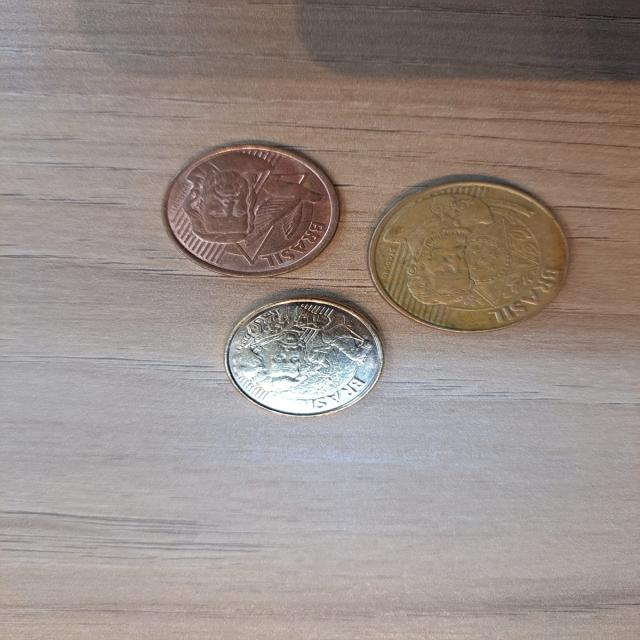25 cents: (371, 162, 578, 336)
